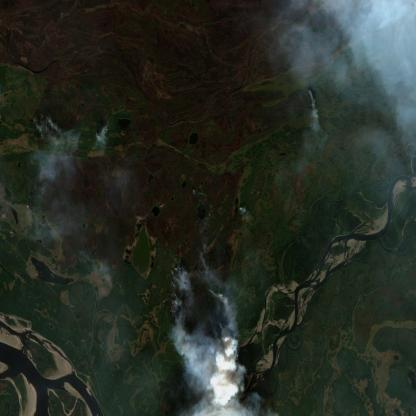fire: (163, 253, 247, 405), (31, 110, 63, 149), (89, 119, 114, 155), (302, 84, 326, 118)
